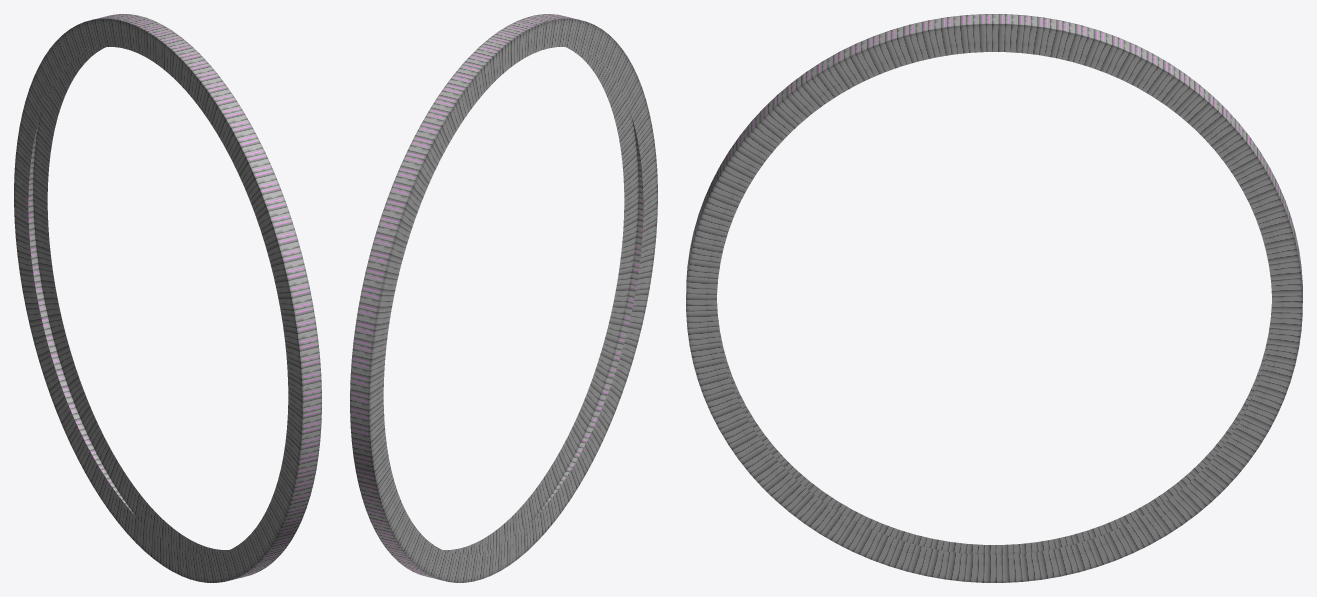
Rendered from Lift_BG.fbx.
3 views of the same model, side by side, from view 1: azimuth 30°, elevation 25°; view 2: azimuth 150°, elevation 25°; view 3: azimuth 270°, elevation 25° (orthographic). The views are drawn at different scales.
Visible parts, largest first — view 1: Elevator_BG; view 2: Elevator_BG; view 3: Elevator_BG.
Boxes of the visible parts, box(x1,y1,x2,y2) form: Elevator_BG: box(14, 14, 321, 582); Elevator_BG: box(350, 14, 657, 582); Elevator_BG: box(686, 14, 1302, 582).
Bounding box in the file's own units: 20.4 × 528 × 528.
